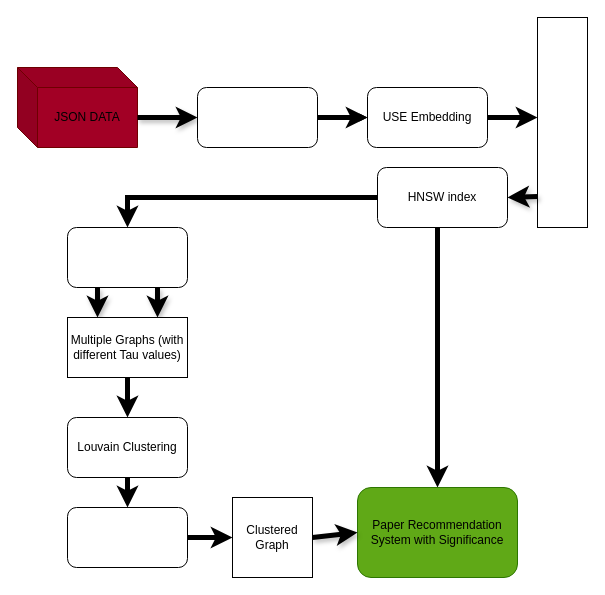
The diagram is 605 pixels wide and 595 high, and some of its shapes have lost their labels. Each missing label, with the centre of its shape:
"512 d Vector" goes at point 562,122.
"EDA" goes at point 257,117.
"KNN Histogram" goes at point 127,257.
"Tau Selector" goes at point 127,537.
